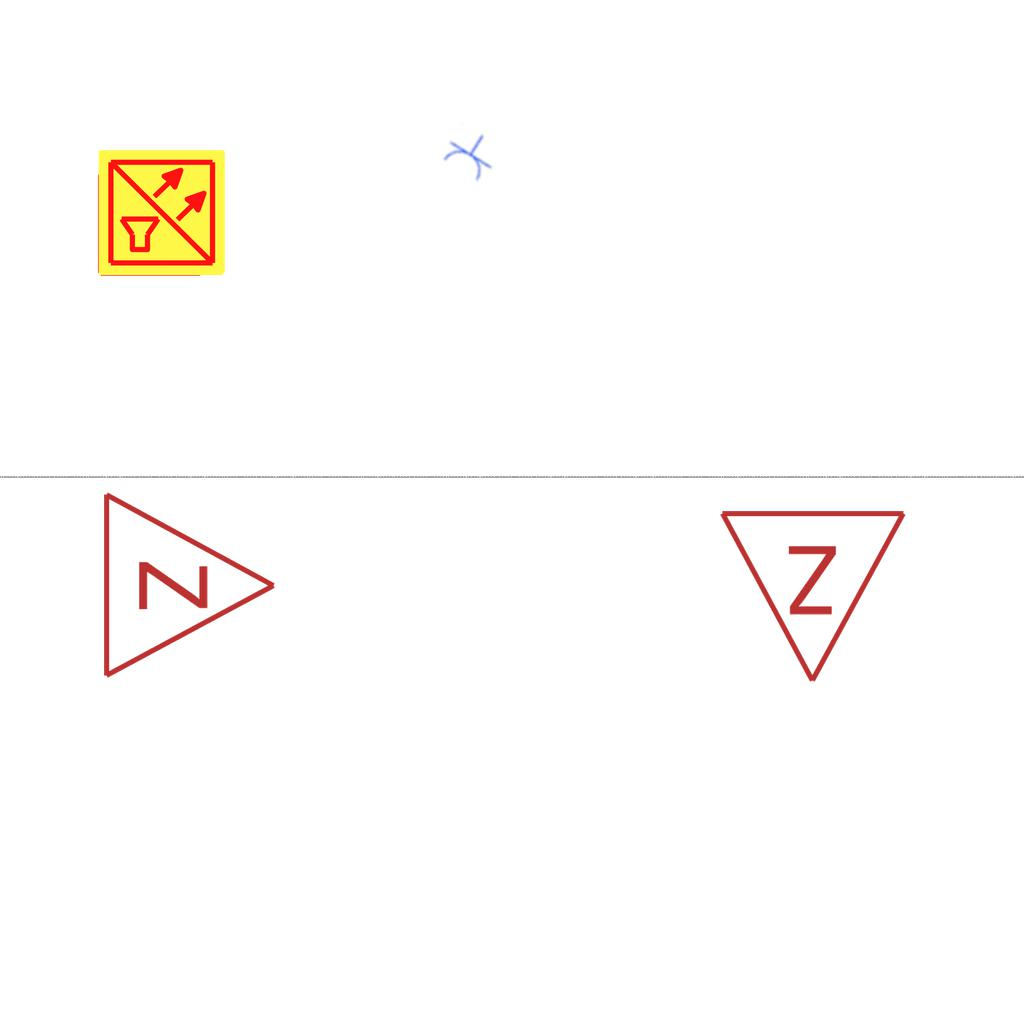OKW_Multisensormelder_(Kombination_optischer_Rauch-Kahlenmonoxid_Waerme-Melder): (96, 147, 228, 279)
Schukosteckdose_einfach: (438, 122, 504, 185)
Zimmersignalleuchte: (89, 485, 289, 681), (717, 496, 913, 696)
